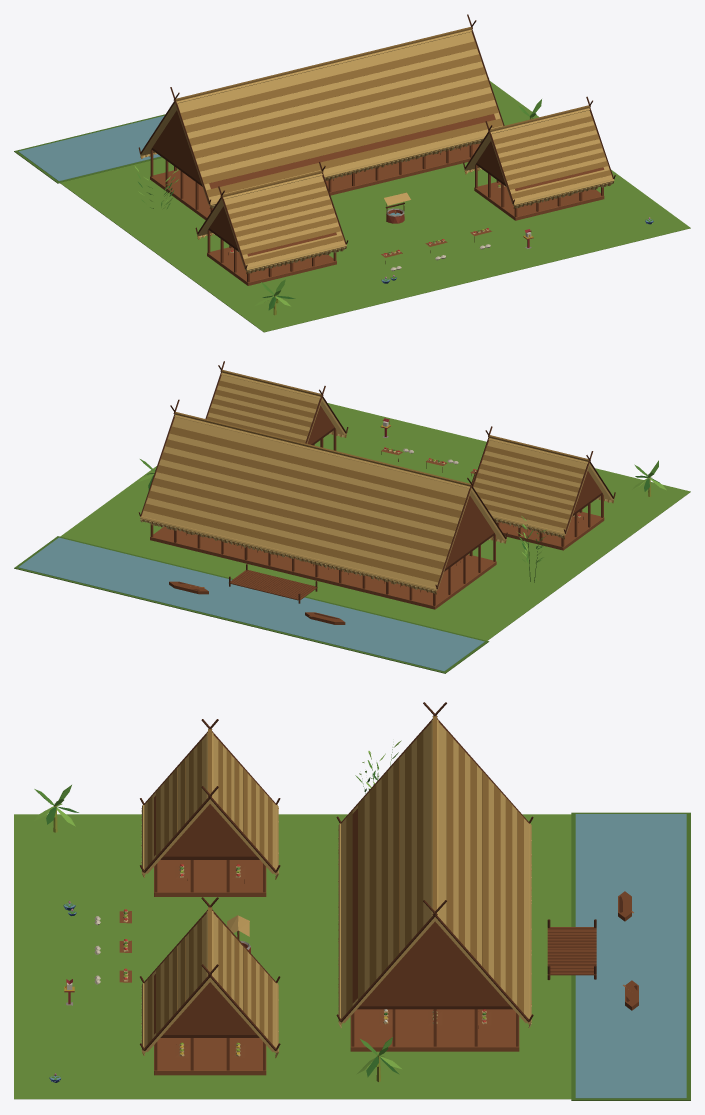
File: market.glb
The picture shows the model from 3 angles, top to bottom: view 1: azimuth 30°, elevation 25°; view 2: azimuth 150°, elevation 25°; view 3: azimuth 270°, elevation 25°; orthographic projection. The views are drawn at different scales.
Visible parts, largest first — view 1: body; view 2: body; view 3: body.
Boxes of the visible parts, left/top/right/bottom form: body: left=14, top=14, right=690, bottom=332; body: left=14, top=361, right=690, bottom=673; body: left=14, top=702, right=690, bottom=1100.
Size of the model in its own units: 48.4 by 12.54 by 48.15.
